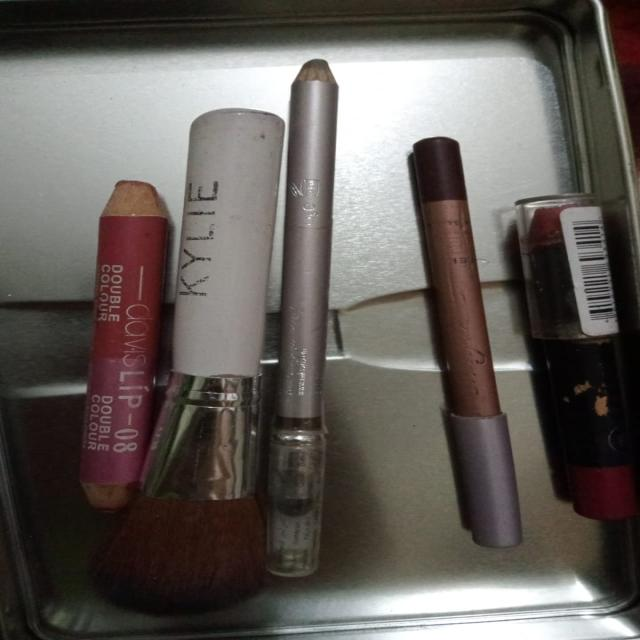brush: (76, 95, 300, 620)
eye liner: (268, 54, 340, 568)
lip liner: (377, 124, 548, 584), (28, 161, 179, 519)
lip stick: (510, 180, 640, 538)
